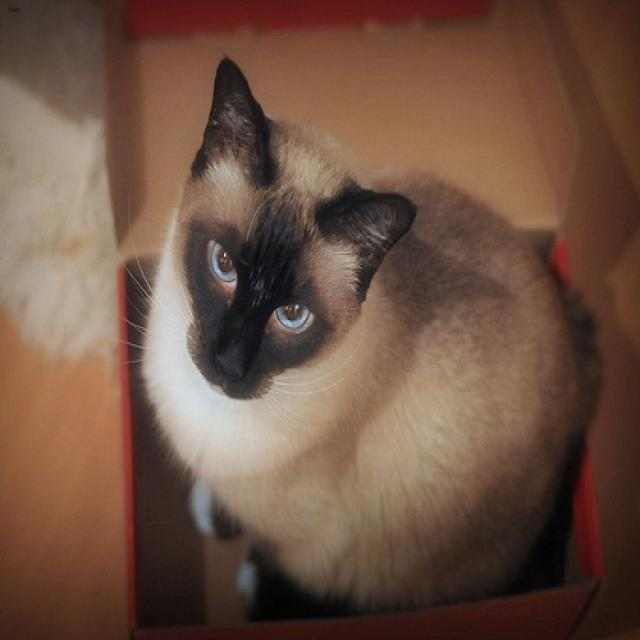Siamese: (170, 57, 415, 401)
